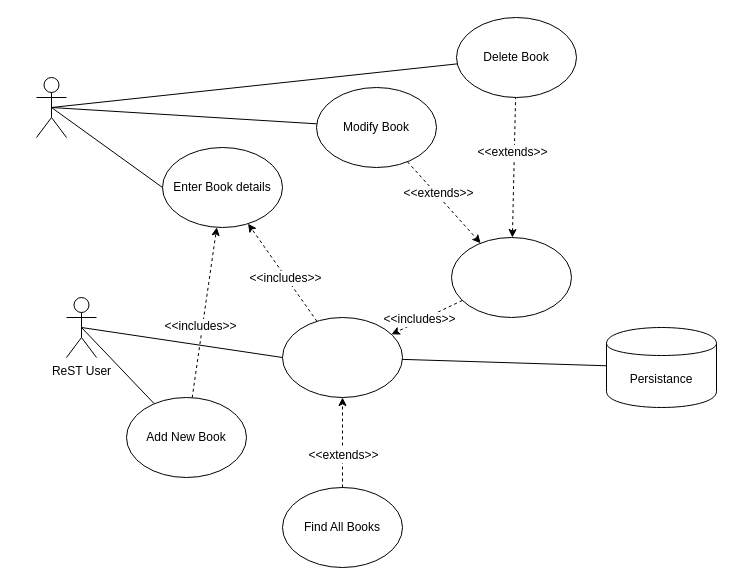
The diagram is 734 pixels wide and 585 high, and some of its shapes have lost their labels. The box of each missing label's shape, as (x1, y1, x2, y2) in pixels:
Find Book: (282, 316, 402, 398)
Select Book: (450, 236, 572, 318)
Web UI User: (36, 76, 66, 138)
